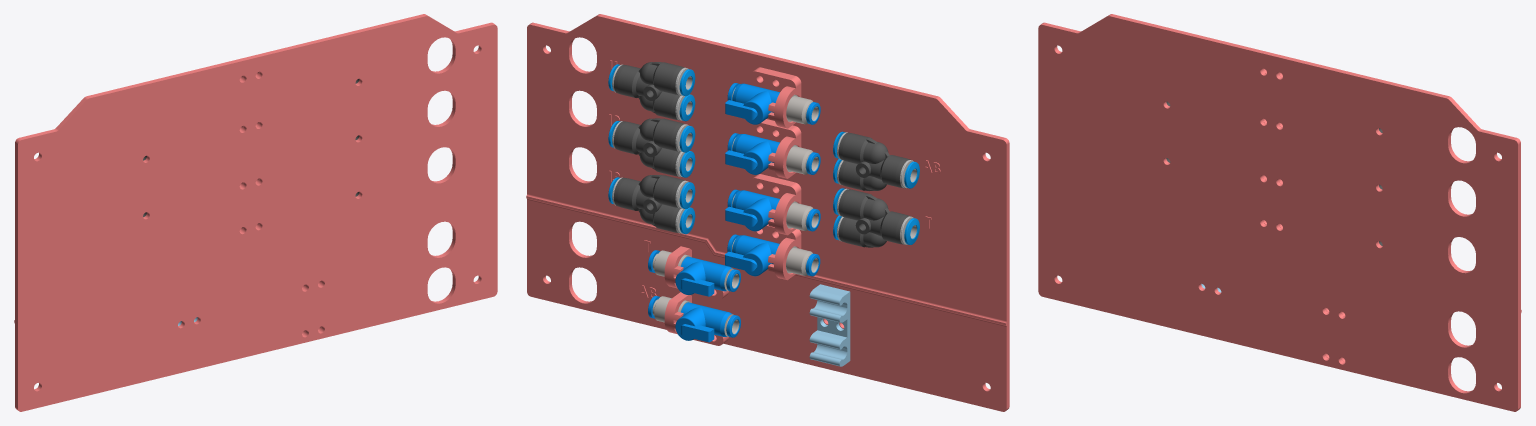
3 renders of one model, left to right at view 1: azimuth 30°, elevation 25°; view 2: azimuth 150°, elevation 25°; view 3: azimuth 330°, elevation 25°, orthographic.
Parts seen in each view (by area): view 1: pneumatic_base_plate-1 - Part; view 2: pneumatic_base_plate-1 - Part, 153149_QSY_6-4 - Part, 153149_QSY_6-2 - Part, PT Clip (Type UU) V2-1 - Part, 153149_QSY_6-1 - Part, 153149_QSY_6-5 - Part, 153149_QSY_6-3 - Part, 153484 QH-QS-6-1 6 - Part, 153484 QH-QS-6-1 5 - Part, 153484 QH-QS-6-1 4 - Part, 153484 QH-QS-6-1 - Part, 153484 QH-QS-6-1 2 - Part (+21 smaller); view 3: pneumatic_base_plate-1 - Part.
Boxes of the visible parts, x1,y1,x2,y2 form: pneumatic_base_plate-1 - Part: (14,14,497,411); pneumatic_base_plate-1 - Part: (526,14,1009,411); 153149_QSY_6-4 - Part: (838,189,910,247); 153149_QSY_6-2 - Part: (838,132,910,190); PT Clip (Type UU) V2-1 - Part: (809,284,850,366); 153149_QSY_6-1 - Part: (614,118,684,176); 153149_QSY_6-5 - Part: (613,175,684,232); 153149_QSY_6-3 - Part: (614,62,684,120); 153484 QH-QS-6-1 6 - Part: (648,296,740,342); 153484 QH-QS-6-1 5 - Part: (648,250,740,296); 153484 QH-QS-6-1 4 - Part: (725,189,820,231); 153484 QH-QS-6-1 - Part: (725,83,820,124); 153484 QH-QS-6-1 2 - Part: (725,133,820,174); pneumatic_base_plate-1 - Part: (1038,14,1521,411).
Bounding box in the file's own units: 0.24 × 0.142 × 0.0245.
